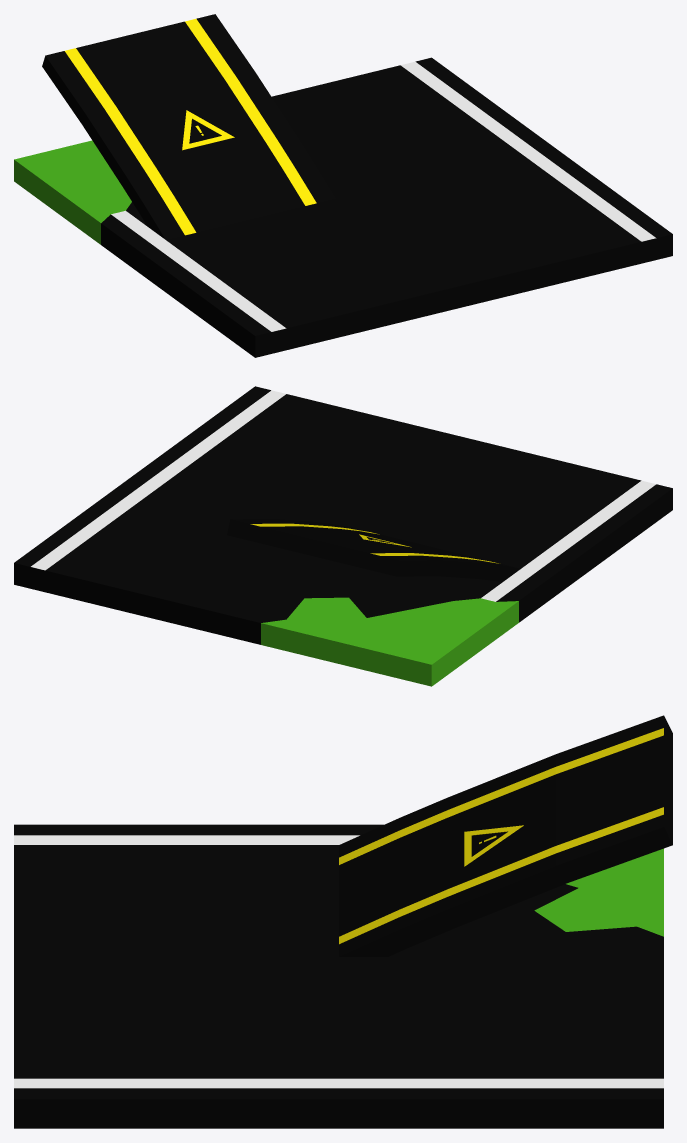
The model's file is ramp_export.fbx.
The picture shows the model from 3 angles, top to bottom: view 1: azimuth 30°, elevation 25°; view 2: azimuth 150°, elevation 25°; view 3: azimuth 270°, elevation 25°; orthographic projection. The views are drawn at different scales.
Parts seen in each view (by area): view 1: Cube; view 2: Cube; view 3: Cube.
Boxes of the visible parts, x1,y1,x2,y2 form: Cube: (14,14,672,357); Cube: (14,386,672,686); Cube: (14,715,672,1128).
Bounding box in the file's own units: 2000 × 541 × 2028.
